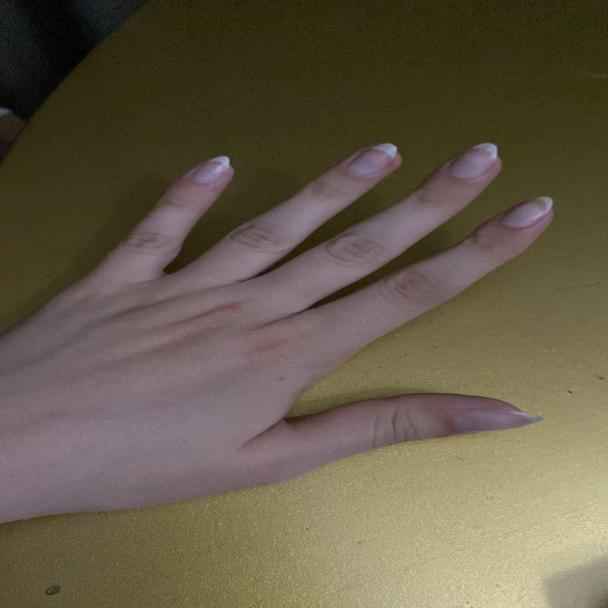five: (50, 137, 565, 508)
